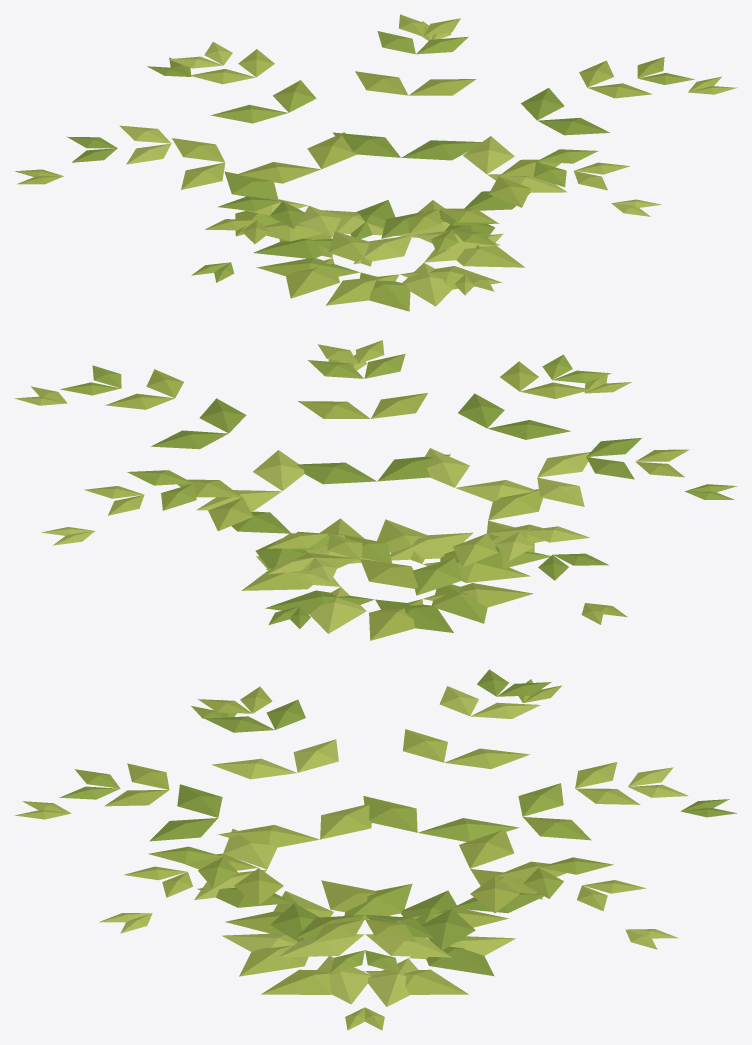
The model's file is Fern.fbx.
3 views of the same model, one above another, from view 1: azimuth 30°, elevation 25°; view 2: azimuth 150°, elevation 25°; view 3: azimuth 270°, elevation 25° (orthographic). The views are drawn at different scales.
Visible parts, largest first — view 1: Fern; view 2: Fern; view 3: Fern.
Boxes of the visible parts, x1,y1,x2,y2 form: Fern: (15, 14, 737, 311); Fern: (14, 340, 737, 640); Fern: (14, 669, 736, 1030).
Bounding box in the file's own units: 150 × 28.6 × 131.
